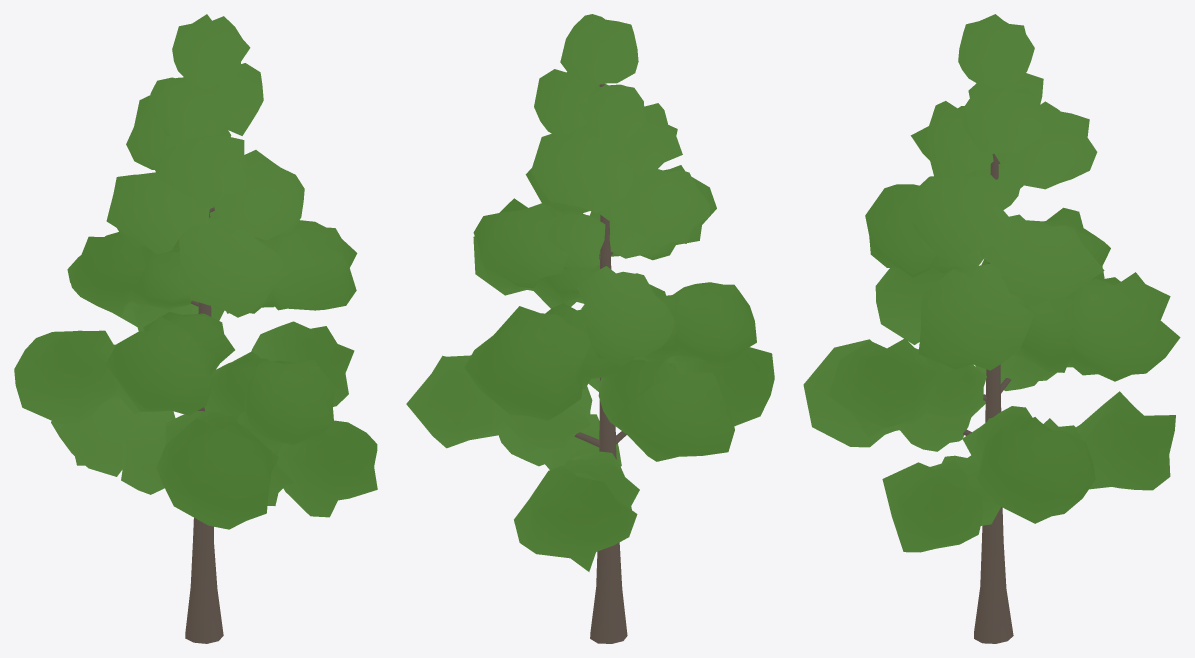
Rendered from Blender_Sweetgum_1.glb.
3 renders of one model, left to right at view 1: azimuth 30°, elevation 25°; view 2: azimuth 150°, elevation 25°; view 3: azimuth 270°, elevation 25°, orthographic.
Visible parts, largest first — view 1: Blender_Sweetgum_1; view 2: Blender_Sweetgum_1; view 3: Blender_Sweetgum_1.
Part boxes in pixels (bbox=[...]): Blender_Sweetgum_1: bbox=[14, 14, 377, 643]; Blender_Sweetgum_1: bbox=[406, 14, 774, 643]; Blender_Sweetgum_1: bbox=[803, 14, 1180, 643].
Size of the model in its own units: 12.39 by 22.78 by 12.58.
